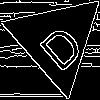D: (31, 15, 87, 74)
